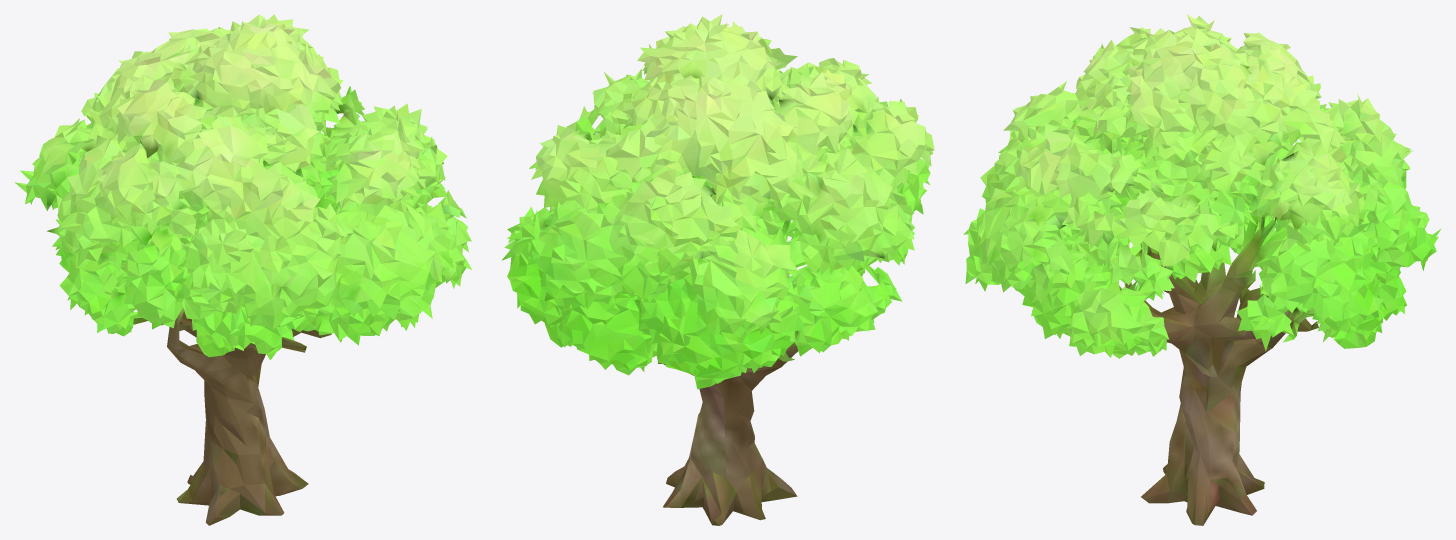
File: tree.glb
The picture shows the model from 3 angles, left to right: view 1: azimuth 30°, elevation 25°; view 2: azimuth 150°, elevation 25°; view 3: azimuth 270°, elevation 25°; orthographic projection.
Parts seen in each view (by area): view 1: crown; view 2: crown; view 3: crown.
Boxes of the visible parts, x1,y1,x2,y2 form: crown: [15, 14, 471, 525]; crown: [502, 14, 934, 525]; crown: [963, 14, 1441, 525].
Bounding box in the file's own units: 1.37 × 1.7 × 1.57.
1 material, 1 textured.
